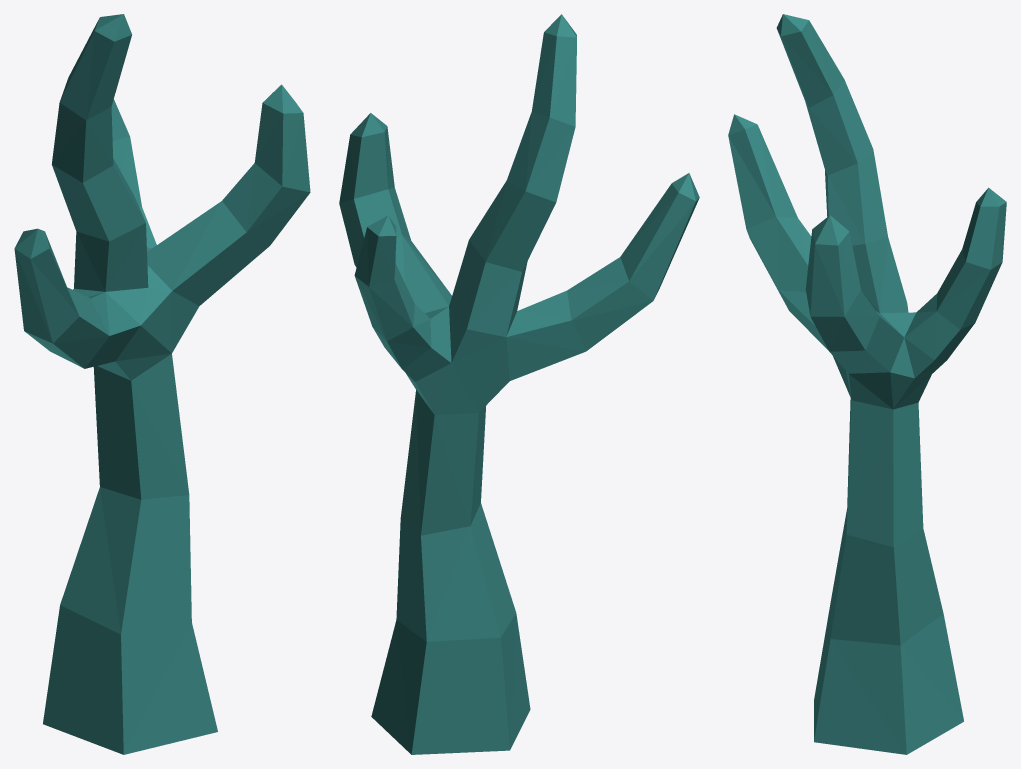
Rendered from SM_Coral_Staghorn_Dead_A.fbx.
The picture shows the model from 3 angles, left to right: view 1: azimuth 30°, elevation 25°; view 2: azimuth 150°, elevation 25°; view 3: azimuth 270°, elevation 25°; orthographic projection. The views are drawn at different scales.
Parts seen in each view (by area): view 1: coral-staghorn-dead-a; view 2: coral-staghorn-dead-a; view 3: coral-staghorn-dead-a.
Boxes of the visible parts, x1,y1,x2,y2 form: coral-staghorn-dead-a: (14, 14, 310, 754); coral-staghorn-dead-a: (339, 14, 699, 754); coral-staghorn-dead-a: (728, 14, 1006, 754).
Size of the model in its own units: 0.4117 by 0.8782 by 0.3265.
